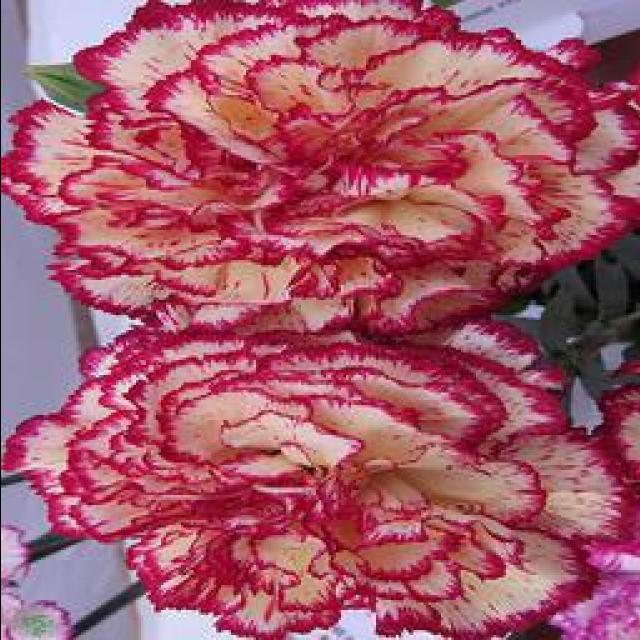carnation: (20, 315, 640, 637)
